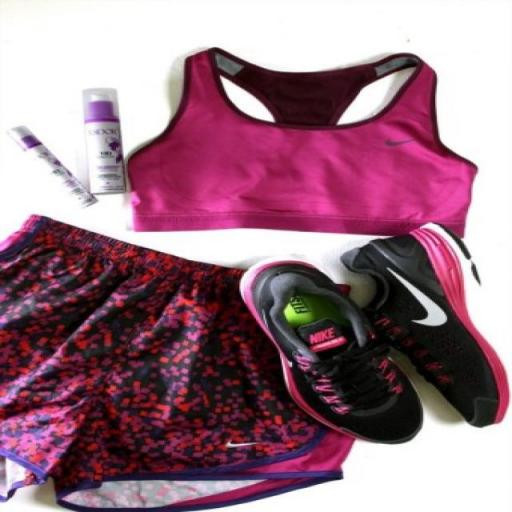Nike: (381, 265, 459, 331)
